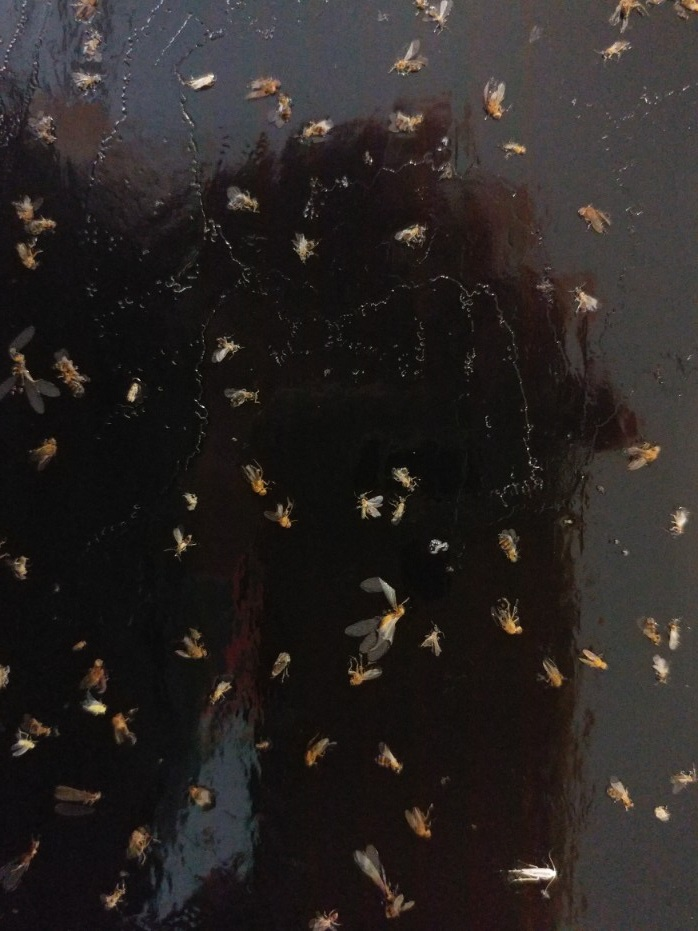termite: (343, 568, 415, 669)
